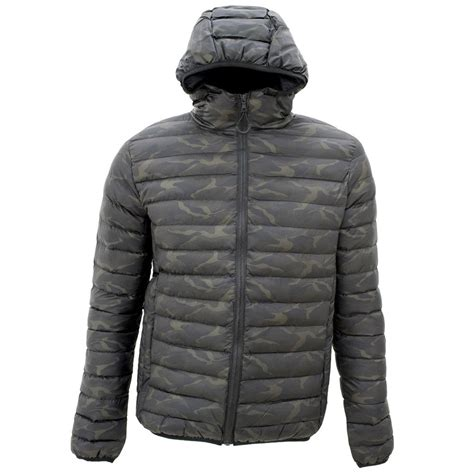nylon: (69, 5, 394, 468)
